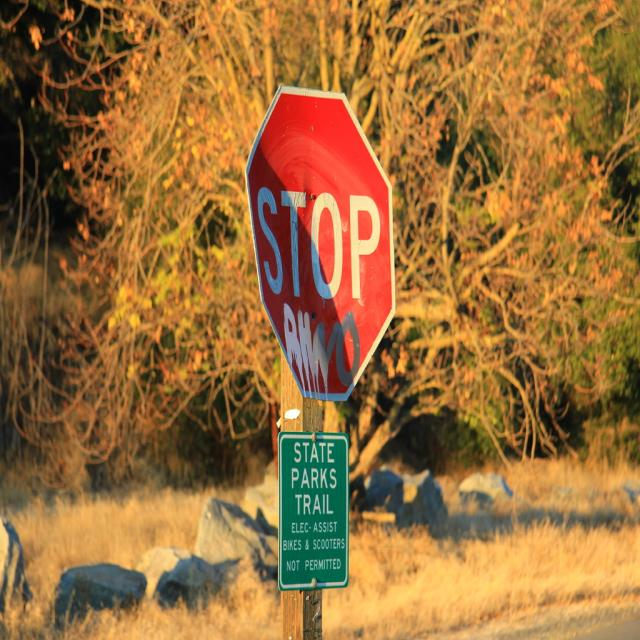Stop-sign: (243, 80, 397, 398)
